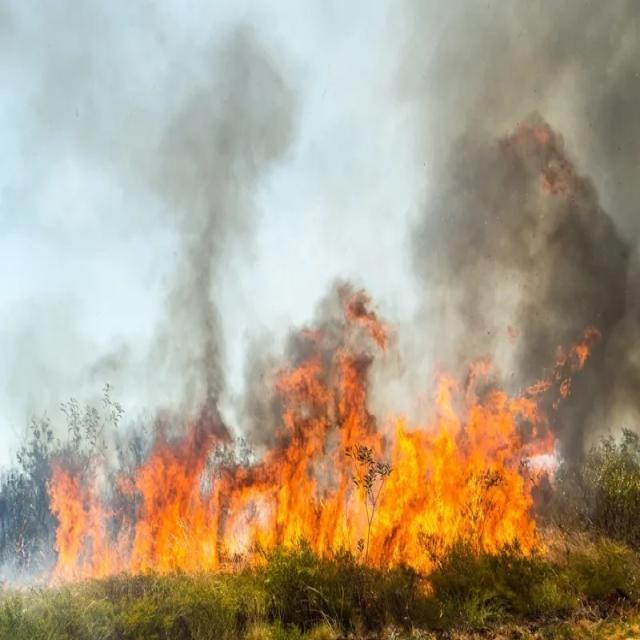Fire: (47, 329, 640, 608)
Smoke: (59, 0, 626, 406)
